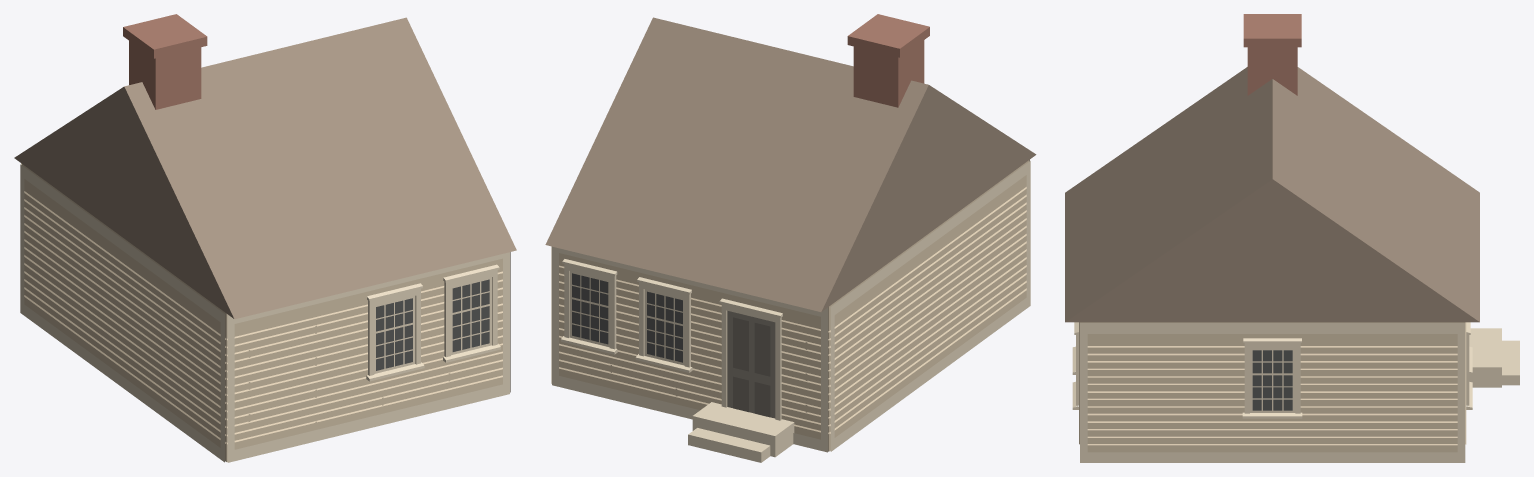
File: recon_1835_north_d3_073__inferred_1835.glb
3 views of the same model, side by side, from view 1: azimuth 30°, elevation 25°; view 2: azimuth 150°, elevation 25°; view 3: azimuth 270°, elevation 25° (orthographic). The views are drawn at different scales.
Visible parts, largest first — view 1: recon_1835_north_d3_073__inferred_1835; view 2: recon_1835_north_d3_073__inferred_1835; view 3: recon_1835_north_d3_073__inferred_1835.
Boxes of the visible parts, left/top/right/bottom form: recon_1835_north_d3_073__inferred_1835: left=14, top=14, right=516, bottom=462; recon_1835_north_d3_073__inferred_1835: left=545, top=14, right=1036, bottom=462; recon_1835_north_d3_073__inferred_1835: left=1065, top=14, right=1519, bottom=462.
Bounding box in the file's own units: 5.32 × 6.04 × 7.66.
